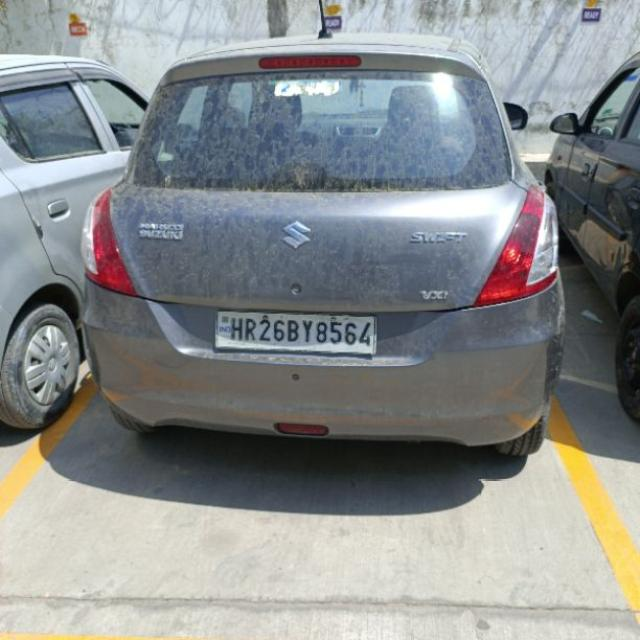license_plate: (212, 308, 376, 356)
